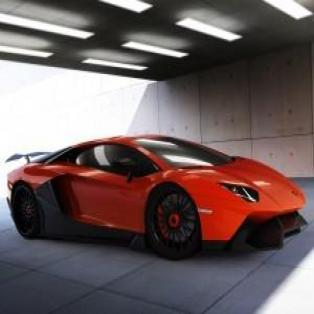Auto: (4, 137, 305, 265)
